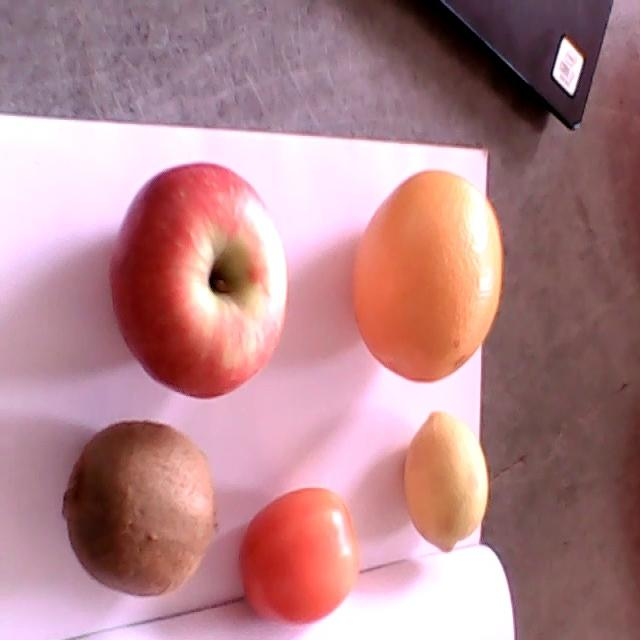apple: (109, 163, 289, 400)
kiwi: (60, 422, 221, 598)
lemon: (404, 411, 487, 551)
orange: (350, 171, 503, 381)
tomato: (236, 489, 360, 624)
